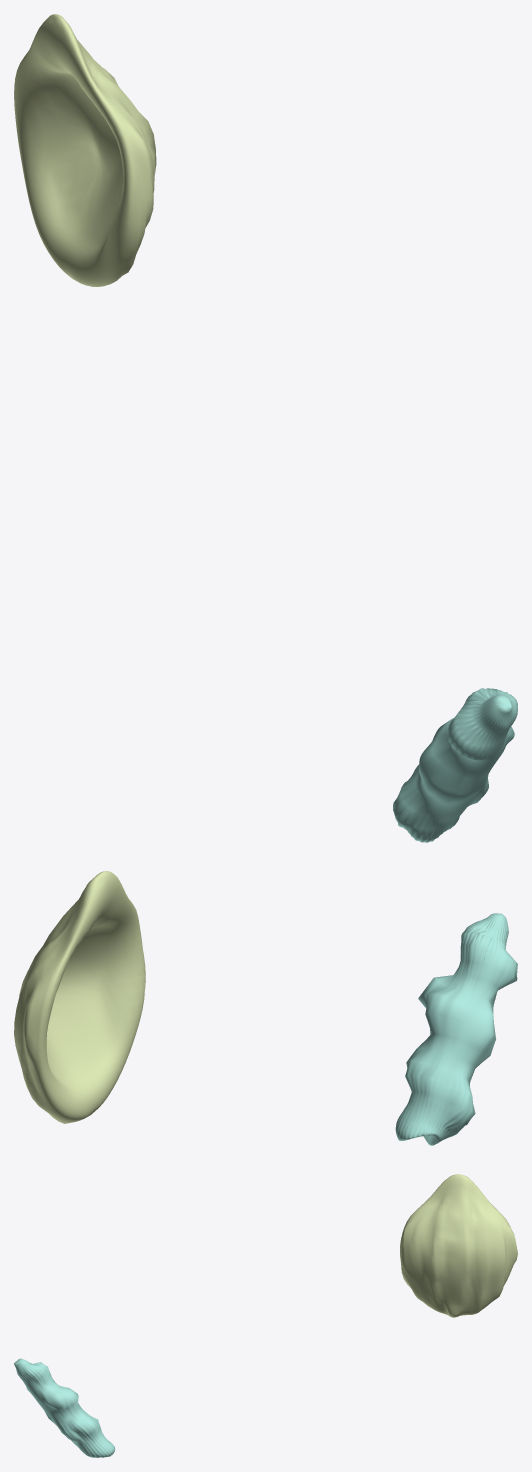
File: shell2.fbx
3 views of the same model, one above another, from view 1: azimuth 30°, elevation 25°; view 2: azimuth 150°, elevation 25°; view 3: azimuth 270°, elevation 25° (orthographic). The views are drawn at different scales.
Parts seen in each view (by area): view 1: Sphere, Cylinder; view 2: Sphere, Cylinder; view 3: Sphere, Cylinder.
Part boxes in pixels (x1,y1,x2,y2): Sphere: (14,14,156,286); Cylinder: (393,688,517,842); Sphere: (14,871,145,1123); Cylinder: (395,913,517,1145); Sphere: (400,1174,517,1317); Cylinder: (14,1358,115,1457).
Size of the model in its own units: 29.56 by 146 by 237.
